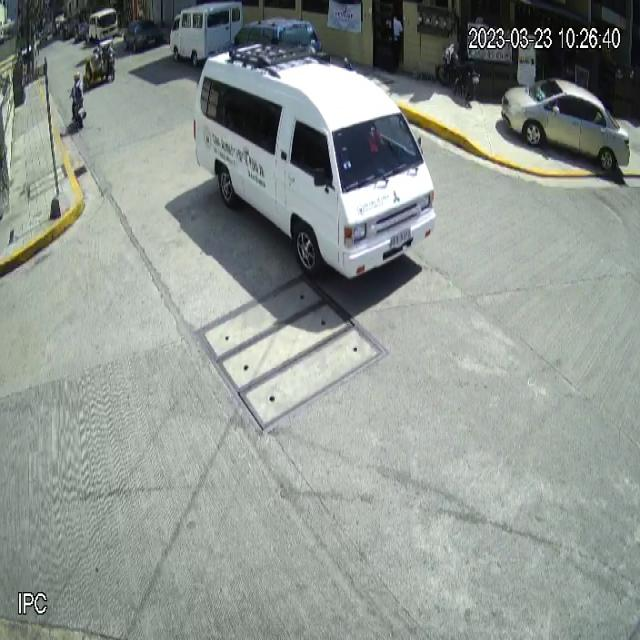Car: (500, 77, 630, 173)
Van: (191, 39, 437, 282)
